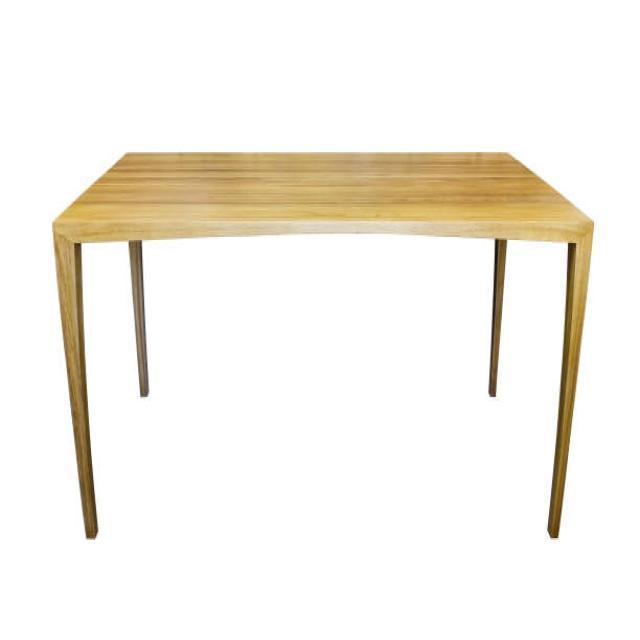table: (51, 149, 594, 541)
